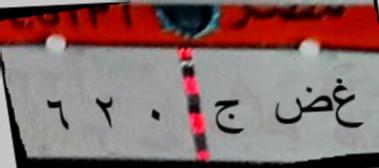0: (144, 98, 168, 130)
2: (96, 91, 120, 134)
6: (44, 89, 75, 136)
daad: (268, 82, 333, 126)
ghayn: (333, 66, 367, 138)
jeem: (209, 92, 247, 142)
